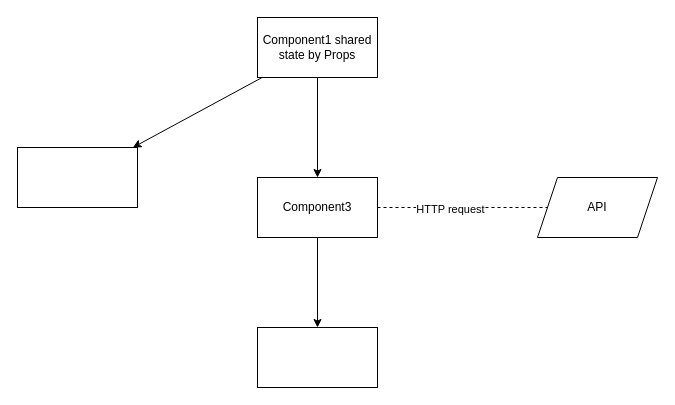
Image size: 675x405. Some labels were removed from this diagram. Each missing label, with the centre of its shape:
"Component2" belongs at pixel 77 177.
"Component4" belongs at pixel 317 357.
